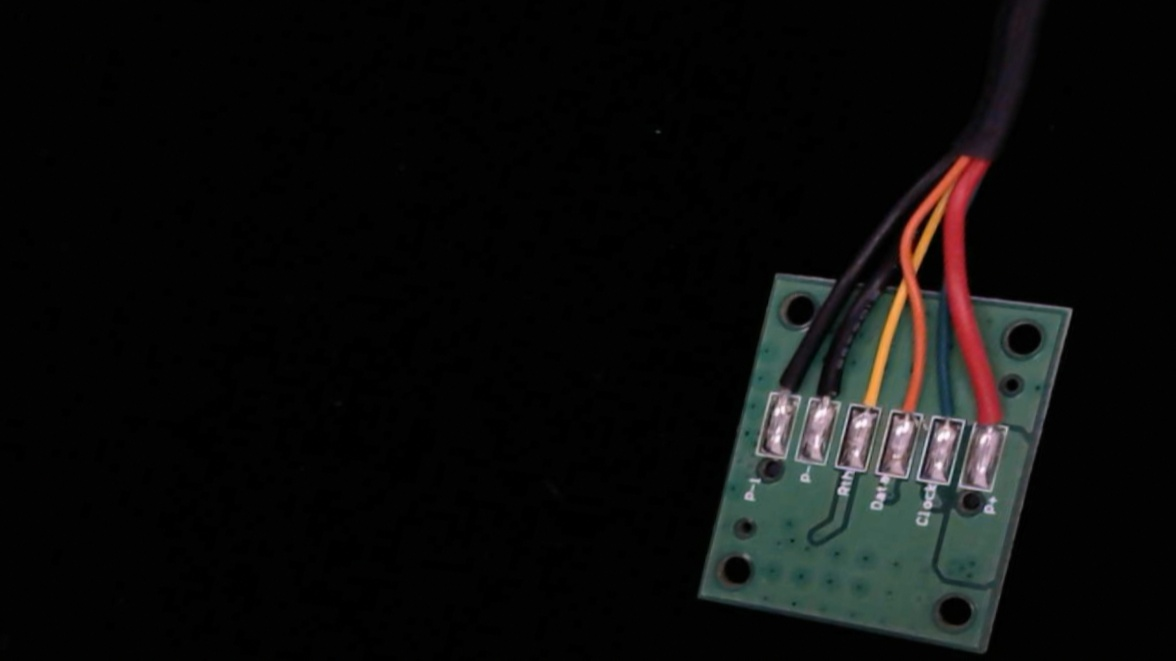Black: (802, 348, 857, 426)
Black1: (759, 345, 812, 416)
Green: (923, 382, 972, 446)
Orange: (882, 363, 934, 439)
Red: (970, 383, 1018, 448)
Yellow: (841, 354, 896, 432)
